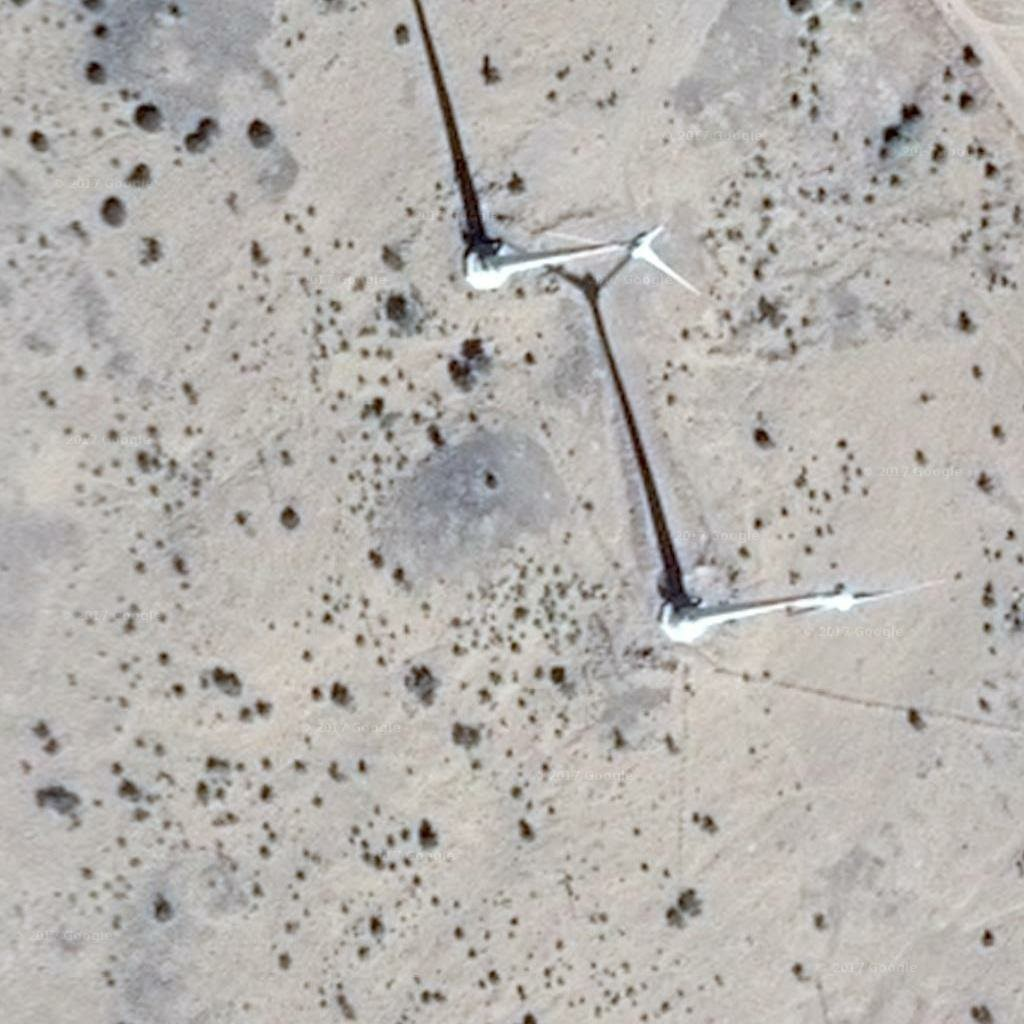Windmill: (521, 241, 715, 597)
